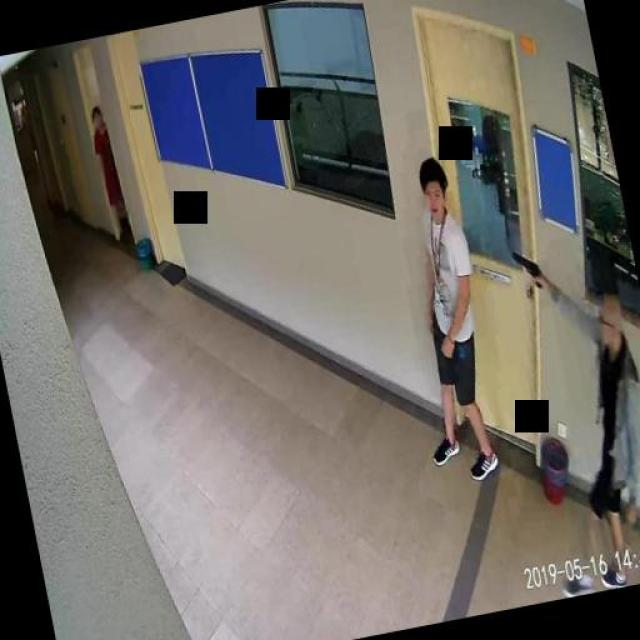gun: (510, 242, 545, 292)
